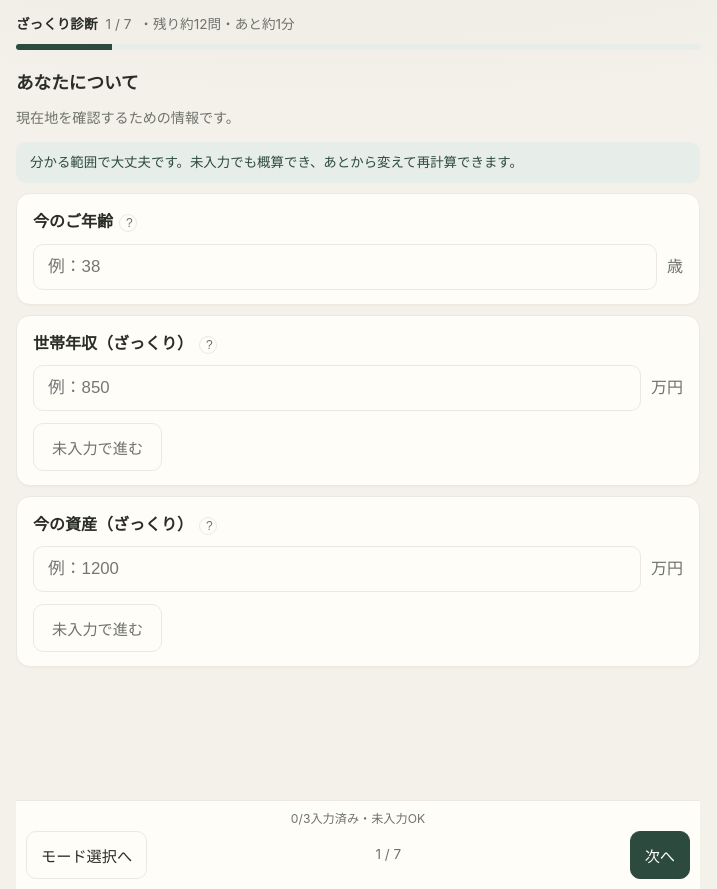
Test: oversight prevention: rough flow › shows the confirm panel and does NOT advance when "次へ" is pressed with incomplete items
This screenshot has width=717, height=889.
Click the button "次へ". click: (660, 855)
box: [630,831,690,879]
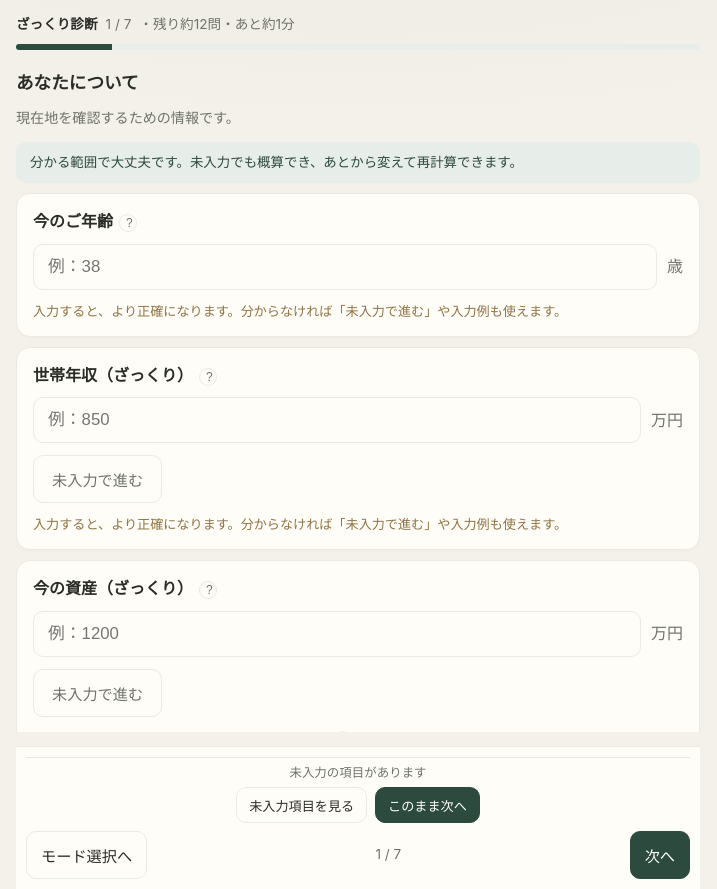
Expected: the text "未入力の項目があります" is shown, [289,764,427,780]
Expected: the button "未入力項目を見る" is shown, [236,787,367,823]
Expected: the button "このまま次へ" is shown, [375,787,480,823]
